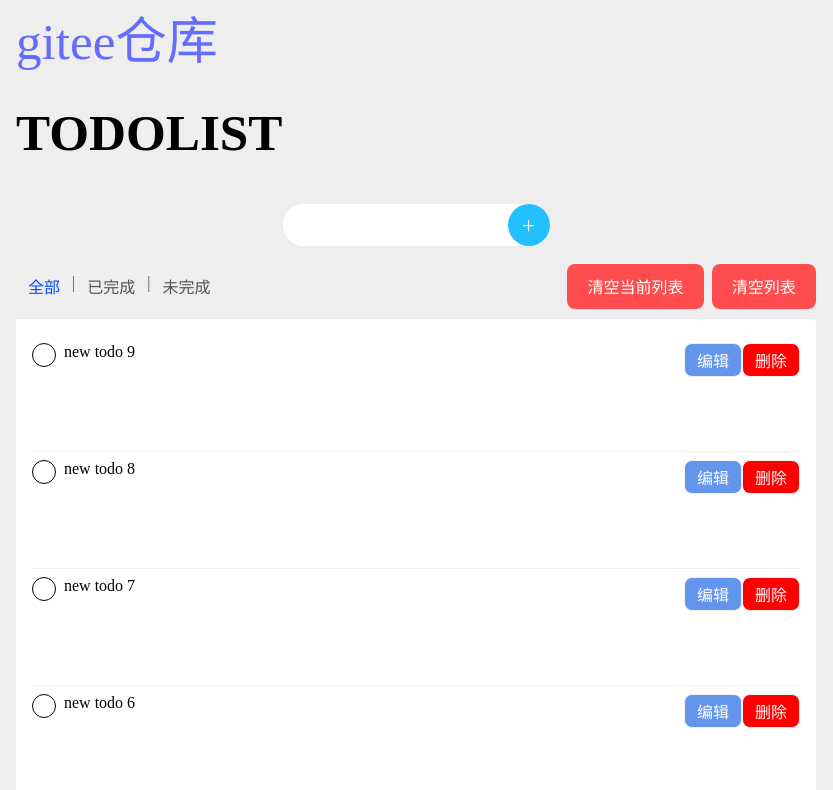
Test: 测试所有Todo组件 › 测试删除Todo
The width and height of the screenshot is (833, 790).
Click the button with class "remove-btn" in the row of "new todo 9".
click(771, 360)  # box 742,343 -> 800,377
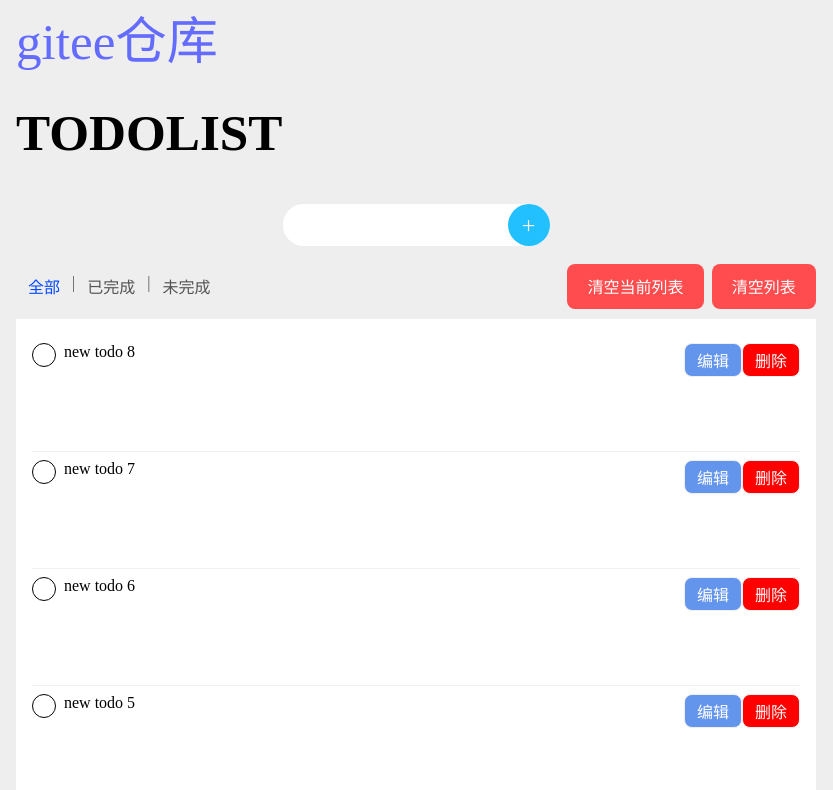
Expected: the number of elements with class "todo-item" is 9
